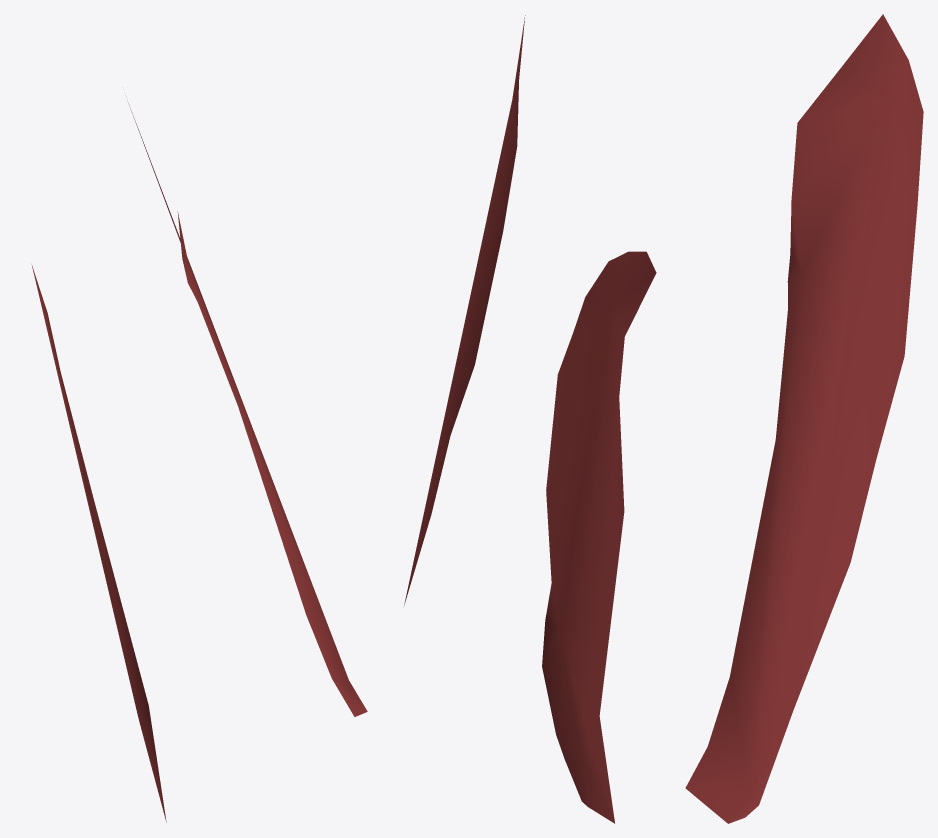
File: dorsal-interossei-muscles-of-hand-o3l.glb
3 renders of one model, left to right at view 1: azimuth 30°, elevation 25°; view 2: azimuth 150°, elevation 25°; view 3: azimuth 270°, elevation 25°, orthographic. The views are drawn at different scales.
Parts seen in each view (by area): view 1: Dorsal interossei muscles of hand.o3l; view 2: Dorsal interossei muscles of hand.o3l; view 3: Dorsal interossei muscles of hand.o3l.
Boxes of the visible parts, x1,y1,x2,y2 form: Dorsal interossei muscles of hand.o3l: [31, 103, 367, 822]; Dorsal interossei muscles of hand.o3l: [404, 15, 656, 823]; Dorsal interossei muscles of hand.o3l: [685, 14, 923, 823].
Bounding box in the file's own units: 0.0156 × 0.04 × 0.0109.
